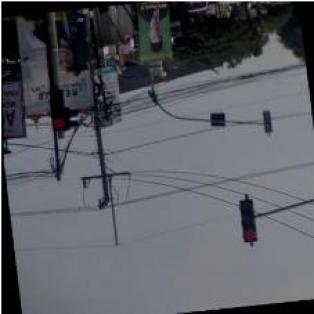Semaforo Rojo: (238, 198, 259, 243), (47, 87, 66, 130)
